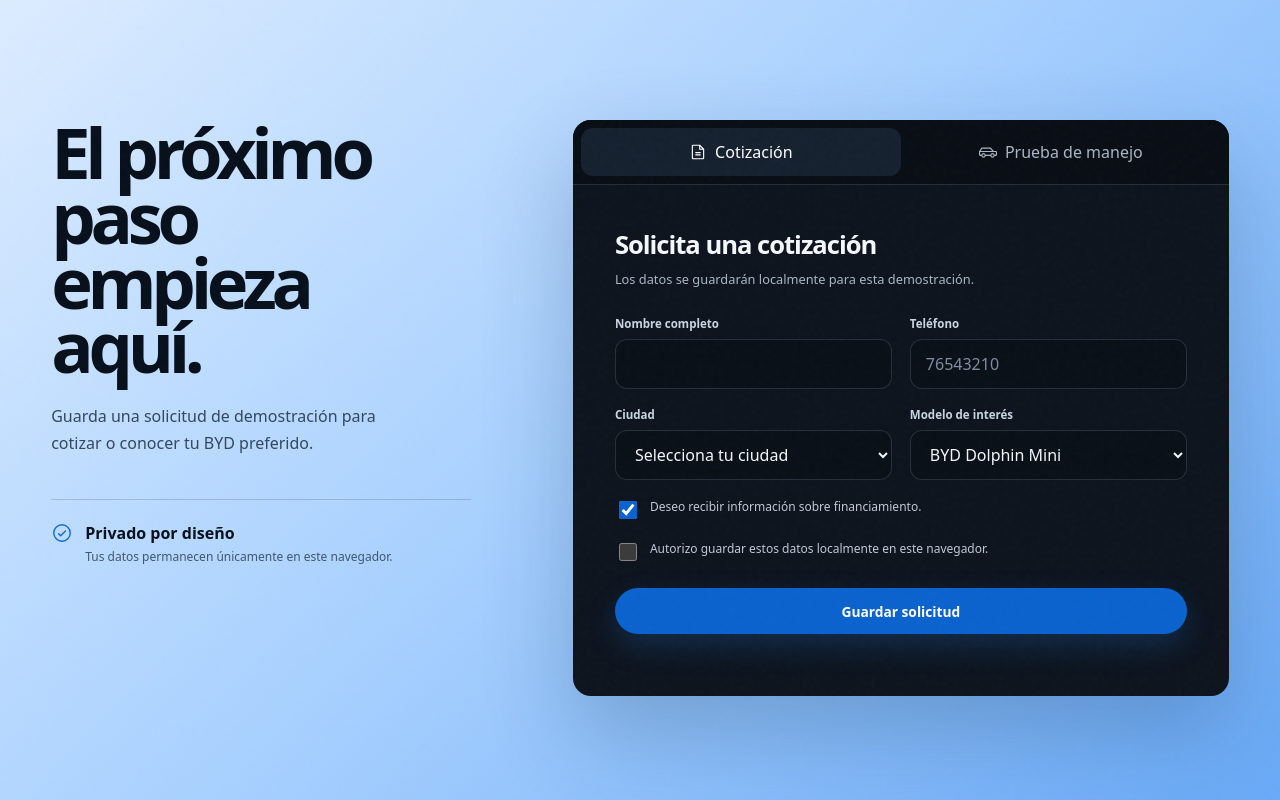
Scenario: normalizes and stores a valid quotation locally
The image size is (1280, 800).
Type "Ana Pérez" into the field labelled "Nombre completo".
click(753, 364); type("Ana Pérez")  # box [615,339,892,389]
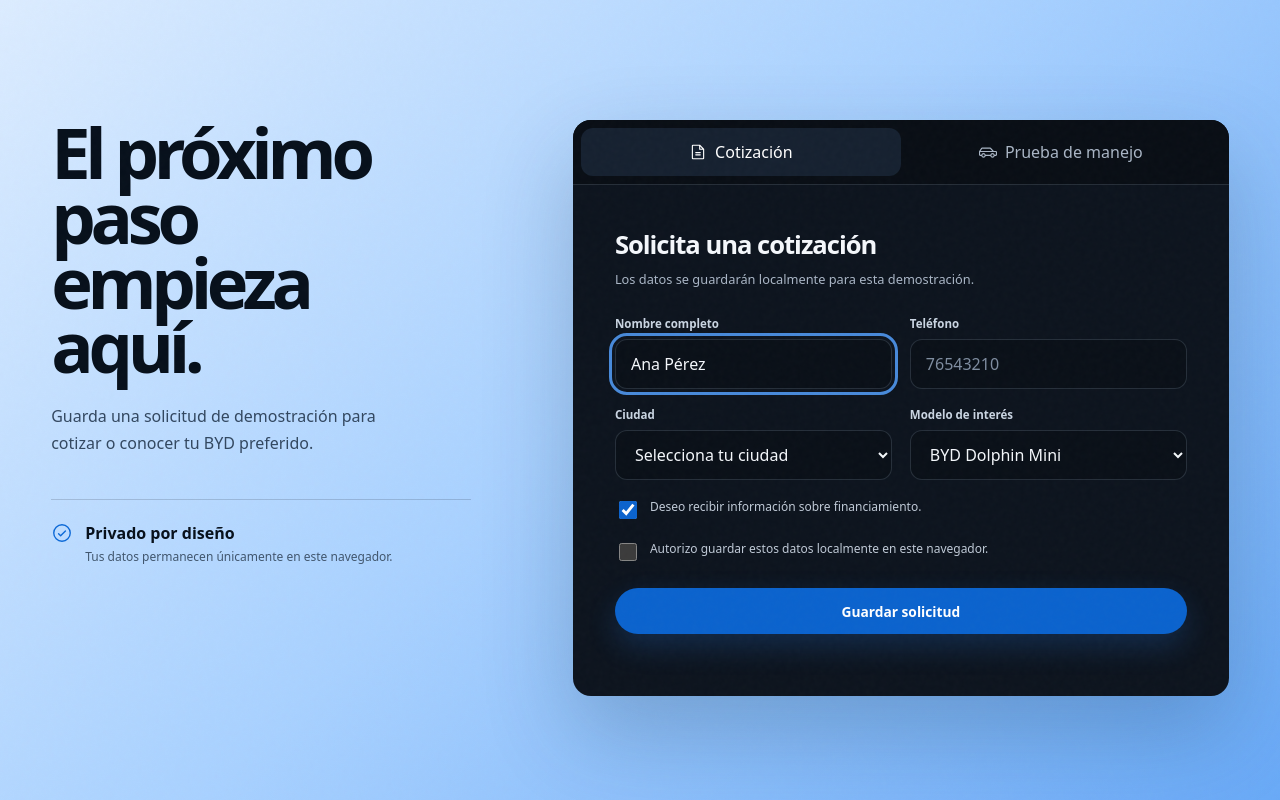
Type "765-43 210" into the field labelled "Teléfono".
click(1048, 364); type("765-43 210")  # box [910,339,1187,389]
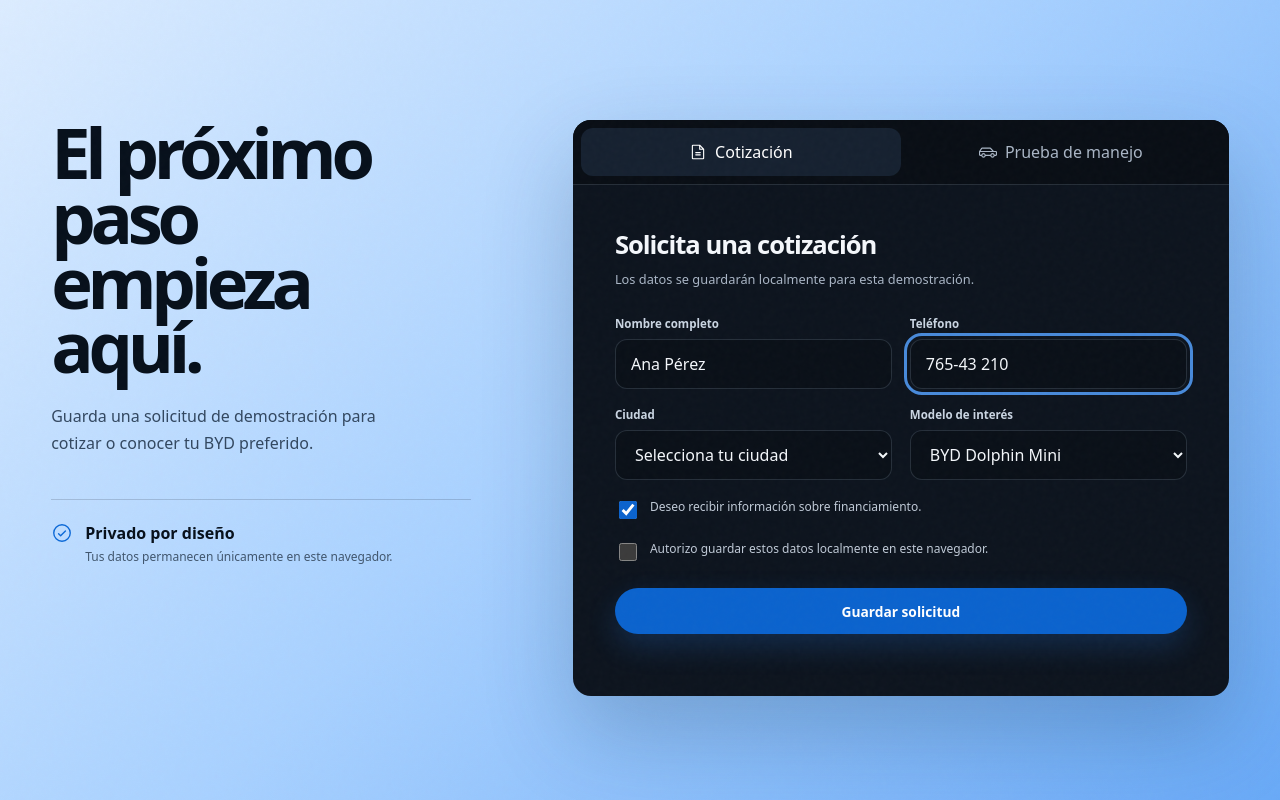
Select "La Paz" in the dropdown labelled "Ciudad" at (753, 455), box [615,430,892,480]
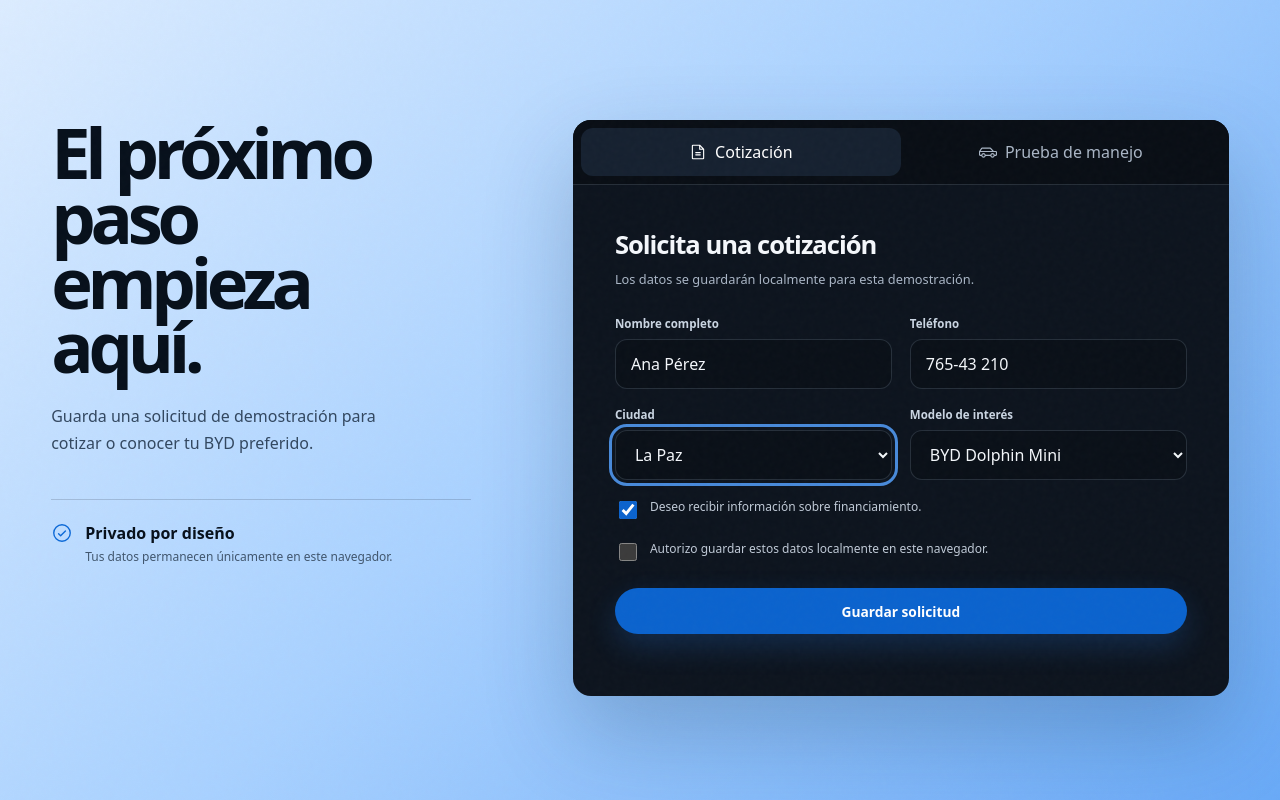
Click the checkbox labelled "Autorizo guardar estos datos localmente en este navegador.".
click(628, 552)  # box [619,543,637,561]
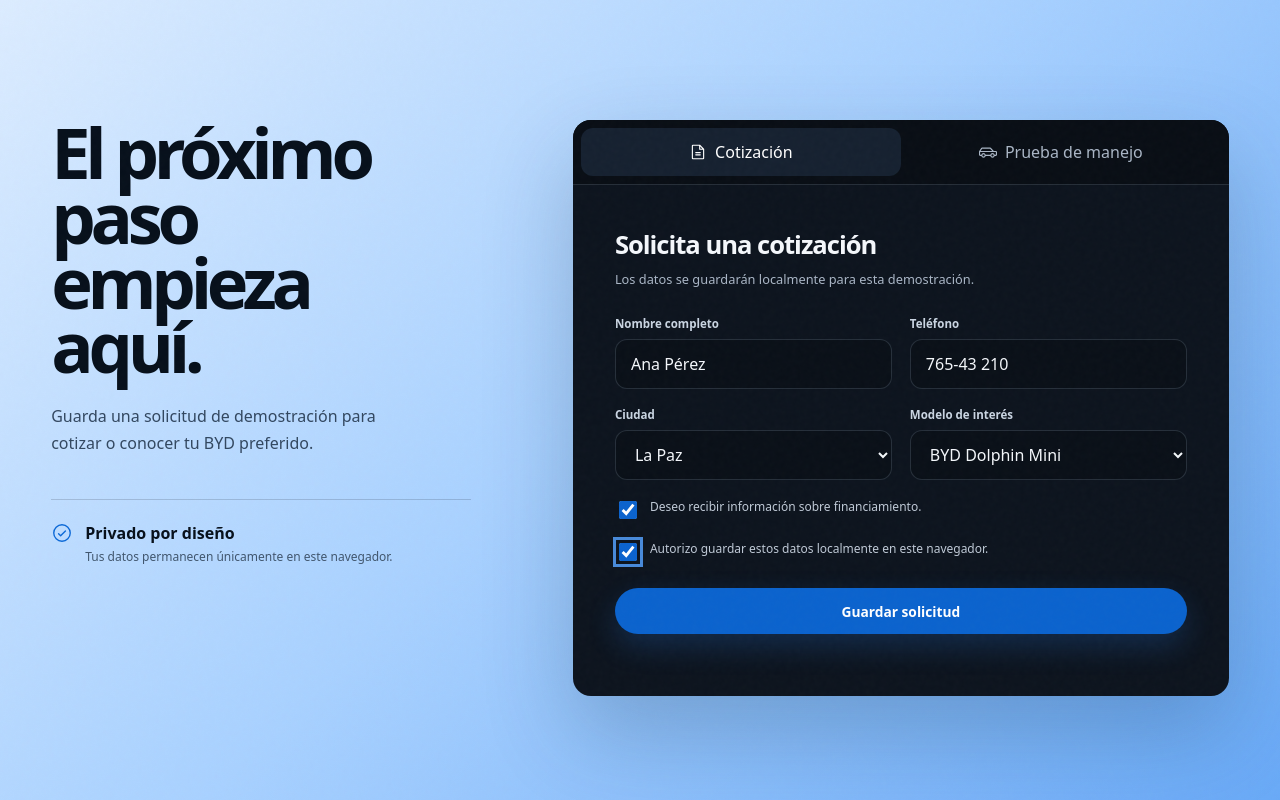
Click the button "Guardar solicitud".
click(901, 611)  # box [615,588,1187,634]
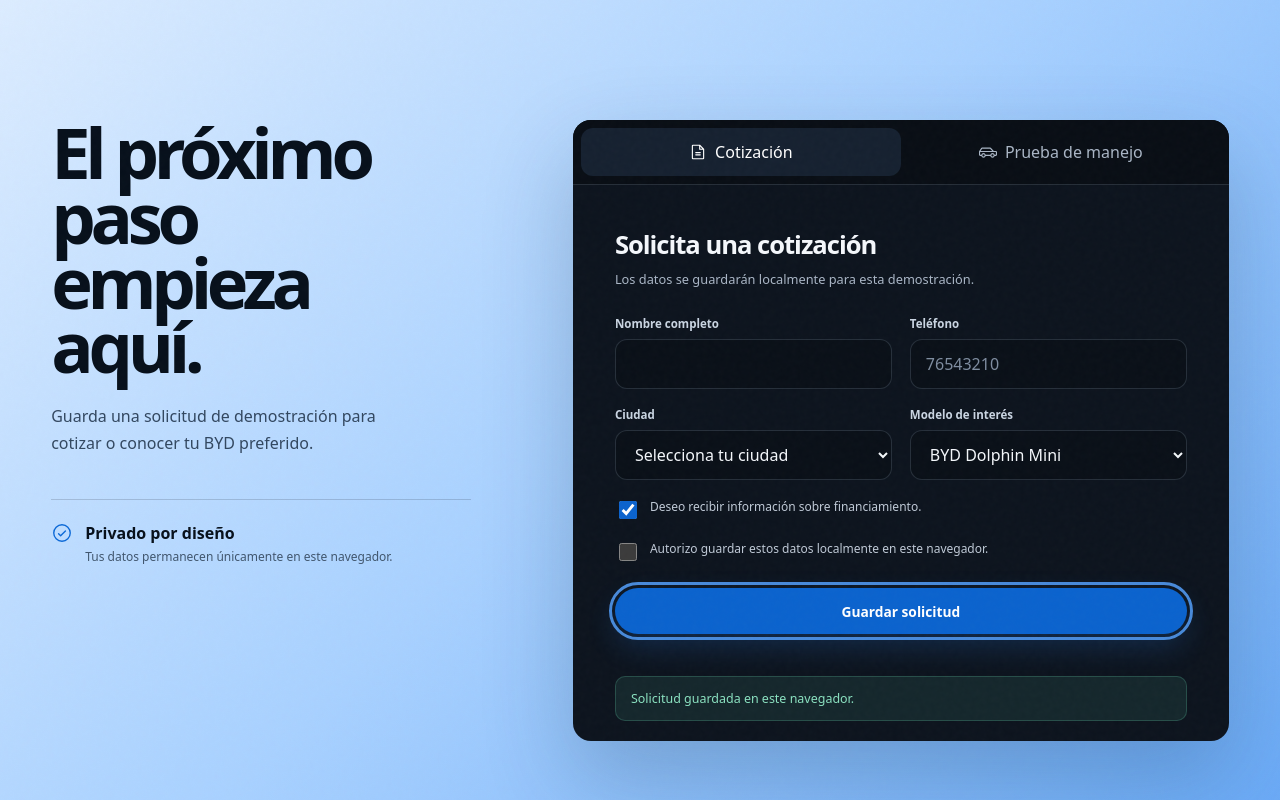
Expected: the message reads "Solicitud guardada en este navegador.", [631,690,854,707]
